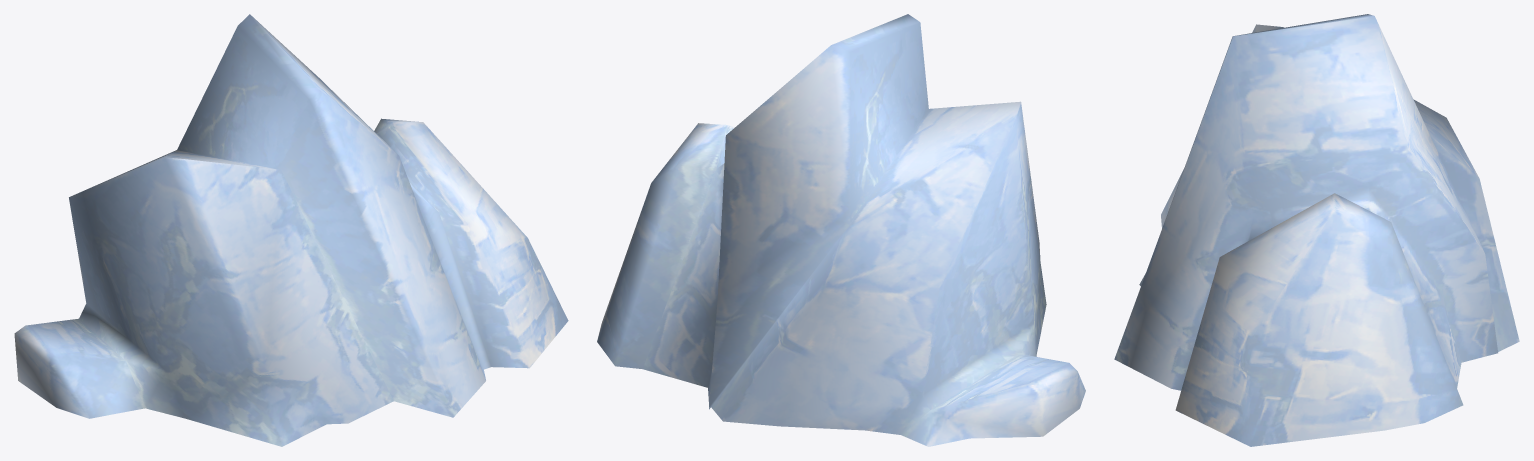
The model's file is hth_env_cover_ice01.glb.
The picture shows the model from 3 angles, left to right: view 1: azimuth 30°, elevation 25°; view 2: azimuth 150°, elevation 25°; view 3: azimuth 270°, elevation 25°; orthographic projection. The views are drawn at different scales.
Visible parts, largest first — view 1: hth_env_cover_ice01; view 2: hth_env_cover_ice01; view 3: hth_env_cover_ice01.
Boxes of the visible parts, box(x1,y1,x2,y2) form: hth_env_cover_ice01: box(14, 14, 568, 446); hth_env_cover_ice01: box(597, 14, 1085, 446); hth_env_cover_ice01: box(1114, 14, 1519, 446).
Size of the model in its own units: 0.2775 by 0.1809 by 0.212.
Materials: 1 (1 with a texture image).
